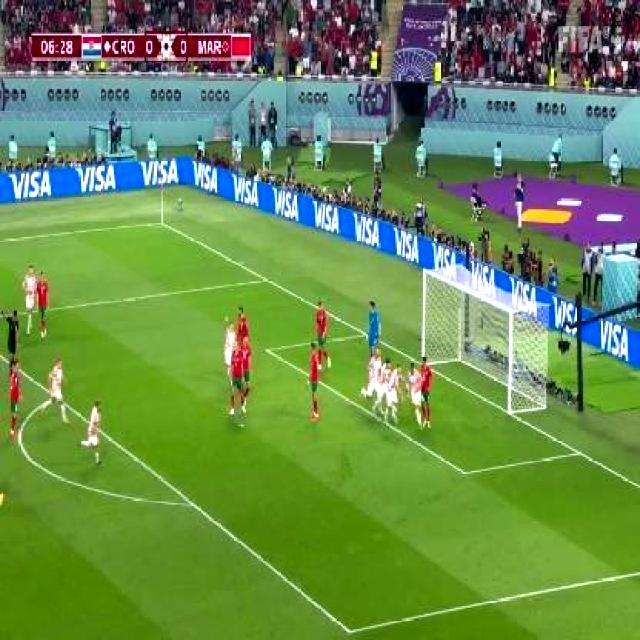bigarea_bottom_inner: (337, 612, 361, 640)
bigarea_top_outter: (257, 268, 274, 289)
bottom_arc_area_intersection: (182, 488, 202, 517)
corner: (151, 214, 171, 229)
smallarea_bottom_inner: (452, 455, 476, 488)
smallarea_bottom_outter: (568, 438, 588, 464)
smallarea_top_inner: (258, 337, 276, 361)
smallarea_top_outter: (357, 325, 372, 343)
